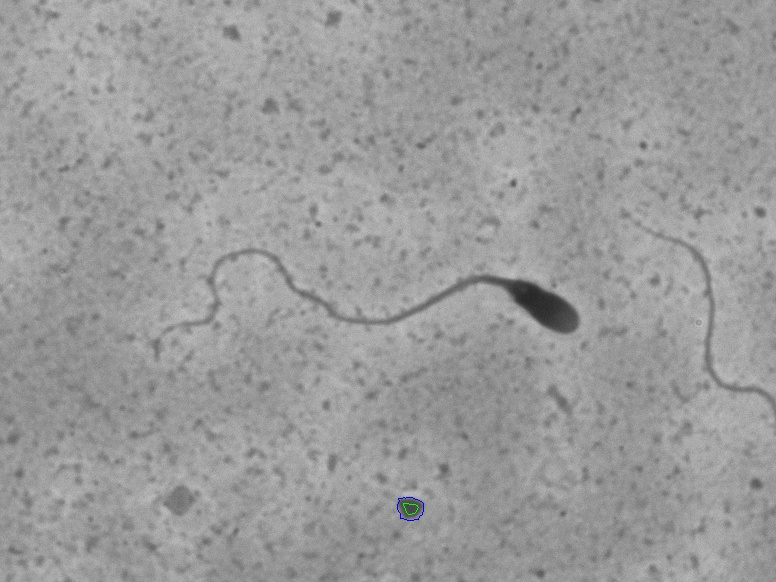Abnormal: (74, 190, 607, 420)
